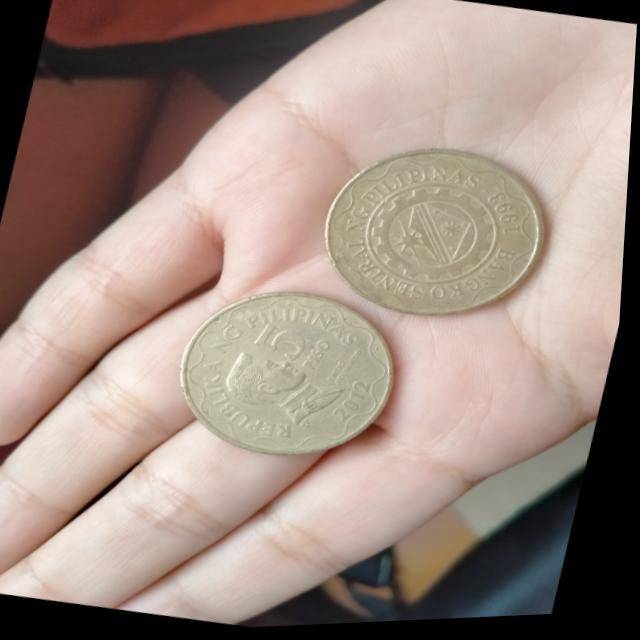5_Old_Back: (304, 129, 564, 344)
5_Old_Front: (247, 313, 346, 391)
